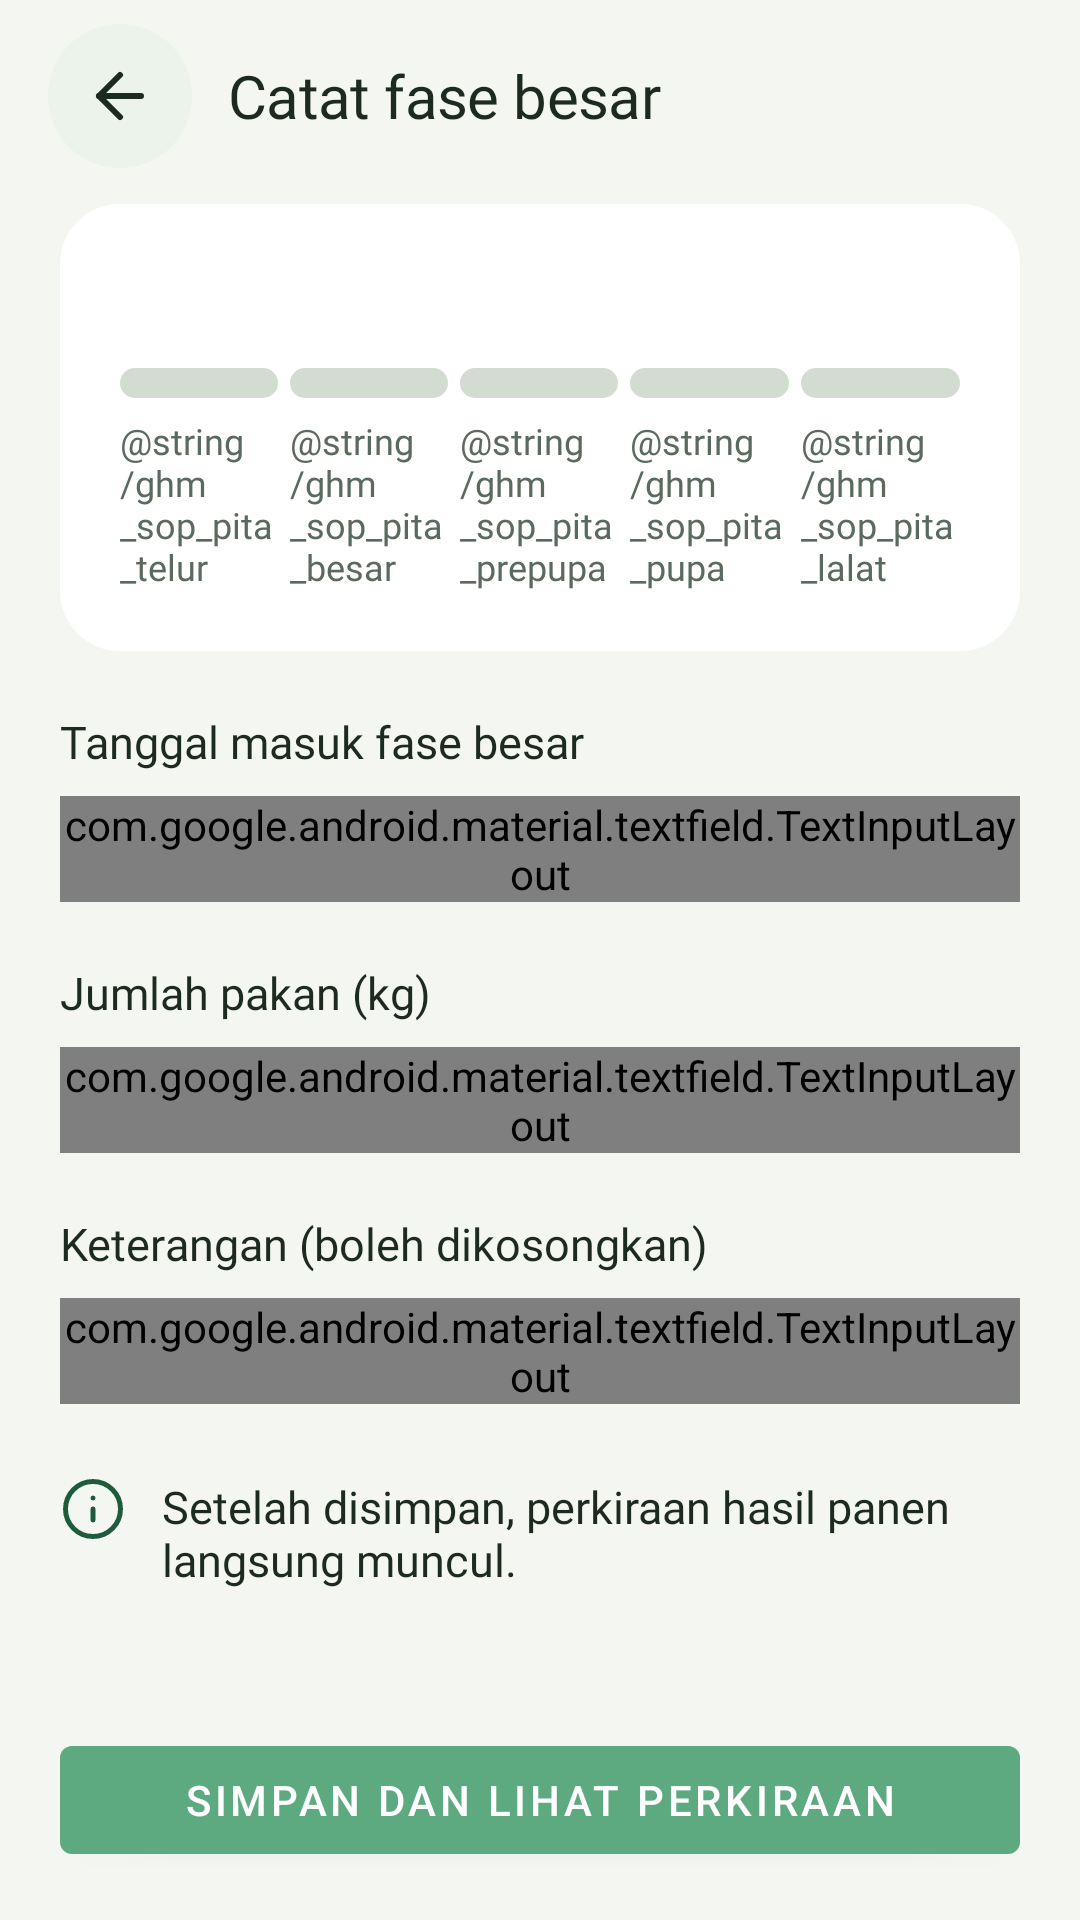

Where icons sit on this 1080px×1920px app screen, as (x1, y1, x2, y2):
Kembali: (96, 72, 144, 120)
